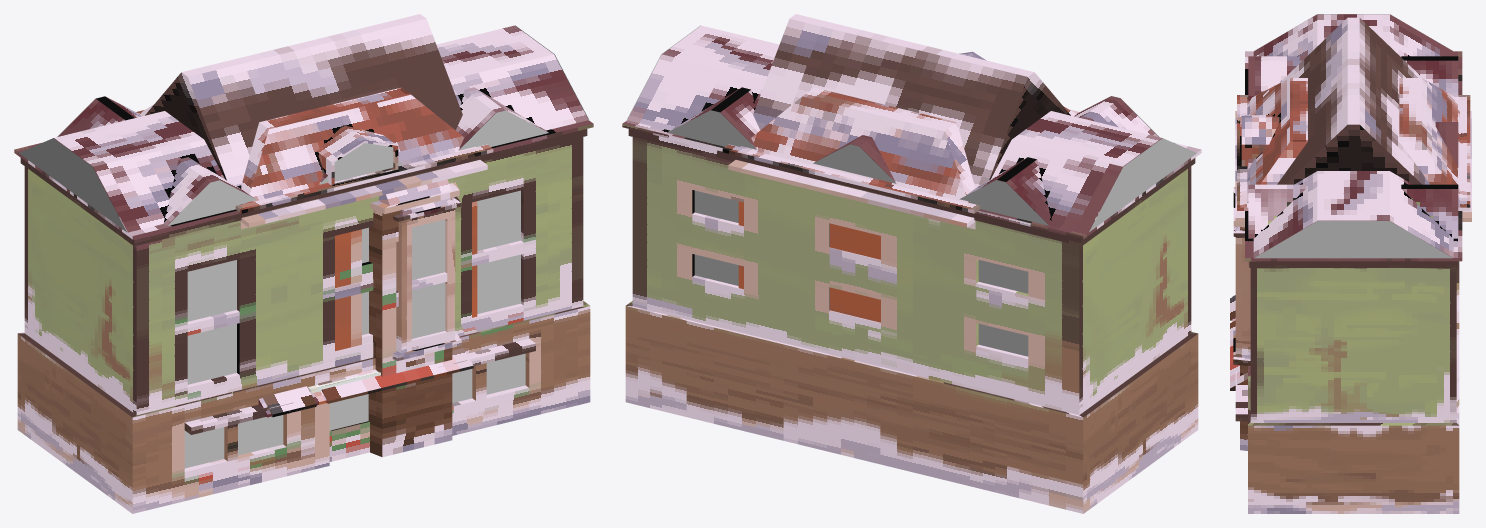
Rendered from IluBuild.glb.
The picture shows the model from 3 angles, left to right: view 1: azimuth 30°, elevation 25°; view 2: azimuth 150°, elevation 25°; view 3: azimuth 270°, elevation 25°; orthographic projection. The views are drawn at different scales.
Visible parts, largest first — view 1: Plane.011, Plane.005, Plane.002, Plane.008, Plane.007, Plane.029, Plane.034, Plane.031, Plane.035, Plane.032, Plane.016, Plane.050 (+7 smaller); view 2: Plane.011, Plane.005, Plane.002, Plane.029, Plane.053, Plane.052, Plane.051, Plane.047, Plane.044, Plane.046, Plane.043; view 3: Plane.011, Plane.005, Plane.002, Plane.030, Plane.007, Plane.008.
Boxes of the visible parts, x1,y1,x2,y2 form: Plane.011: (14,25,593,513); Plane.005: (145,14,487,461); Plane.002: (136,87,493,213); Plane.008: (368,179,459,457); Plane.007: (258,196,461,417); Plane.029: (19,138,126,231); Plane.034: (187,260,236,321); Plane.031: (187,324,236,384); Plane.035: (477,190,520,250); Plane.032: (477,254,520,313); Plane.016: (412,219,445,280); Plane.050: (167,180,257,225); Plane.011: (622,25,1201,513); Plane.005: (728,14,1070,322); Plane.002: (722,51,1079,213); Plane.029: (1089,138,1196,231); Plane.053: (959,180,1048,225); Plane.052: (667,110,756,149); Plane.051: (813,144,896,183); Plane.047: (978,260,1028,293); Plane.044: (978,324,1028,356); Plane.046: (694,190,738,222); Plane.043: (694,254,738,285); Plane.011: (1235,14,1462,513); Plane.005: (1230,17,1471,390); Plane.002: (1237,78,1470,210); Plane.030: (1254,221,1452,258); Plane.007: (1232,226,1250,365); Plane.008: (1233,187,1247,450).
Size of the model in its own units: 9.56 by 7.33 by 4.72.
Materials: 17 (12 with a texture image).
